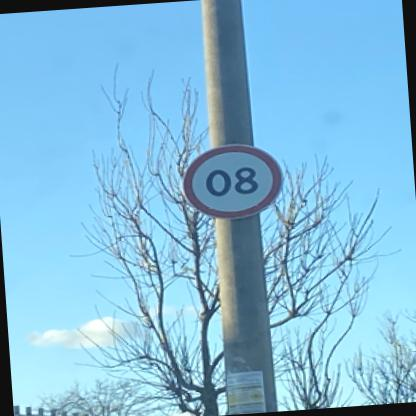speedlimit: (182, 140, 288, 221)
